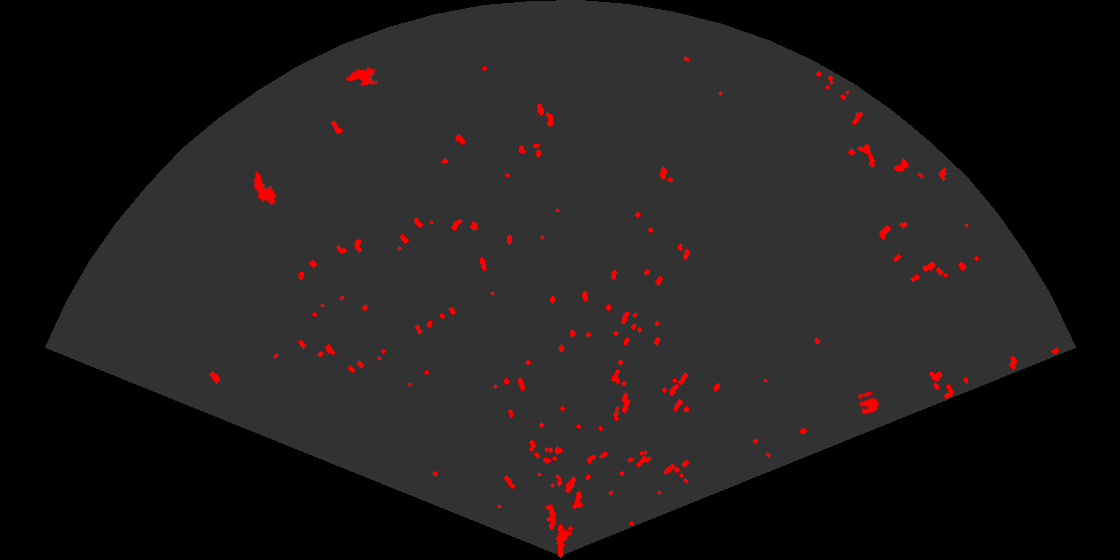AUV: (252, 170, 278, 207), (344, 65, 380, 88)
ball: (856, 389, 881, 416)
